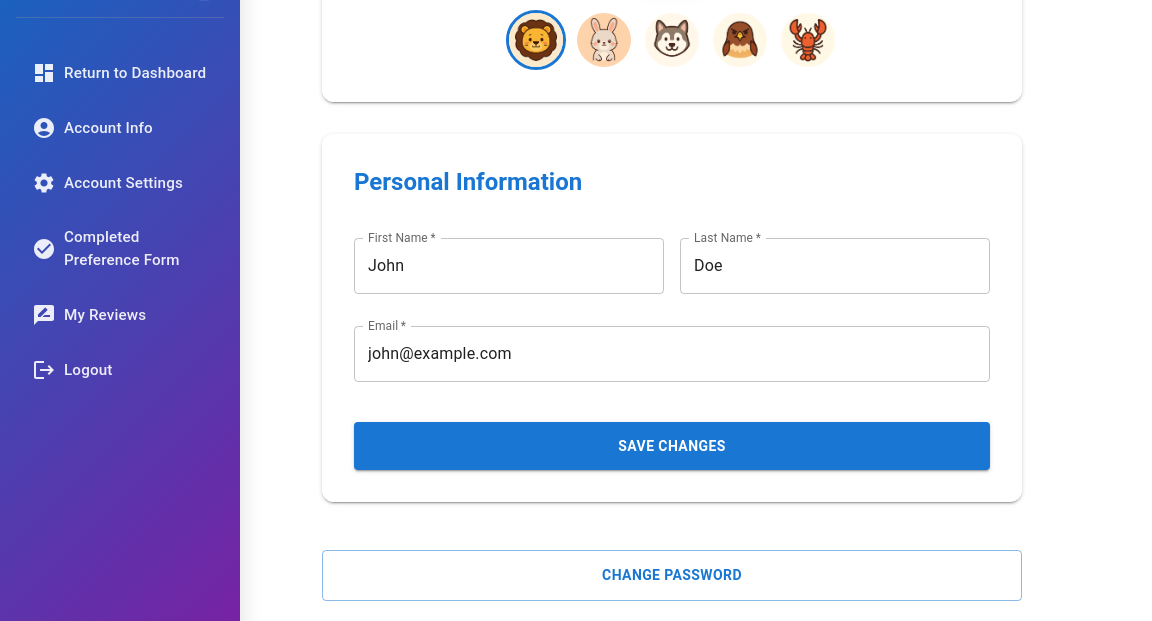
Test: AccountSettings Page › displays 'Email already in use' on body stream error
(page scrolled)
Click the button "Save Changes".
click(672, 446)  # box [354,422,990,470]
(page scrolled)
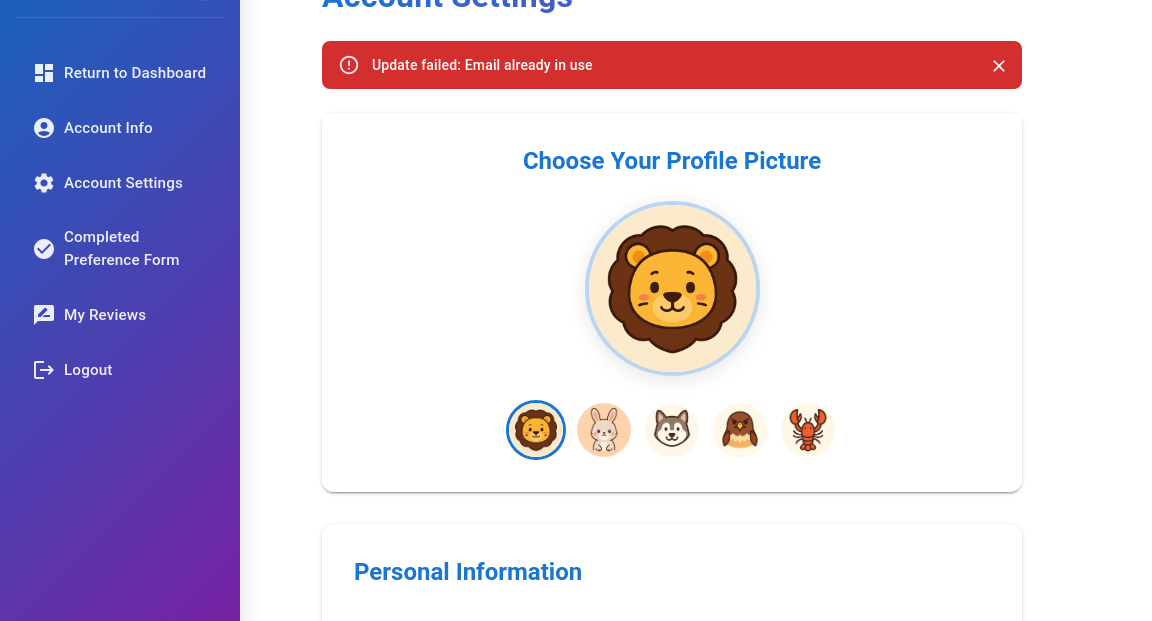
Expected: the text "Update failed: Email already in use" is shown, [372,56,593,72]
